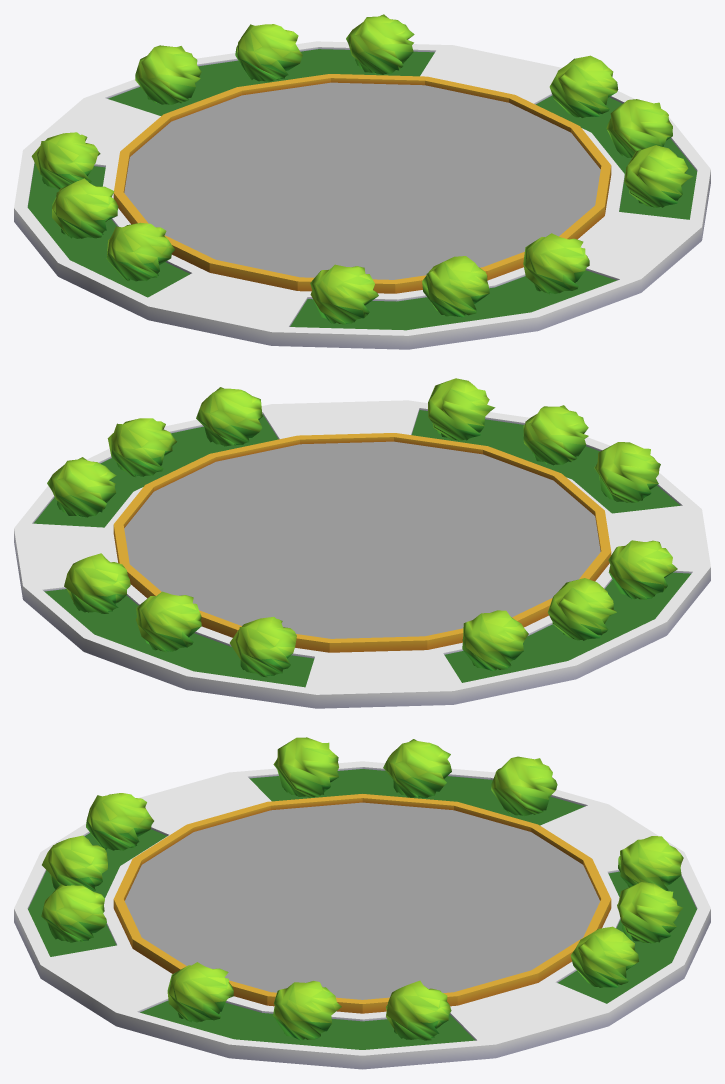
Rendered from Training_Zone.fbx.
3 views of the same model, one above another, from view 1: azimuth 30°, elevation 25°; view 2: azimuth 150°, elevation 25°; view 3: azimuth 270°, elevation 25° (orthographic).
Parts seen in each view (by area): view 1: pCylinder2; view 2: pCylinder2; view 3: pCylinder2.
Part boxes in pixels (<box>): pCylinder2: <box>14,14,710,349</box>; pCylinder2: <box>14,378,710,708</box>; pCylinder2: <box>14,737,710,1069</box>.
Bounding box in the file's own units: 2375 × 219 × 2375.
Materials: 2 (1 with a texture image).
